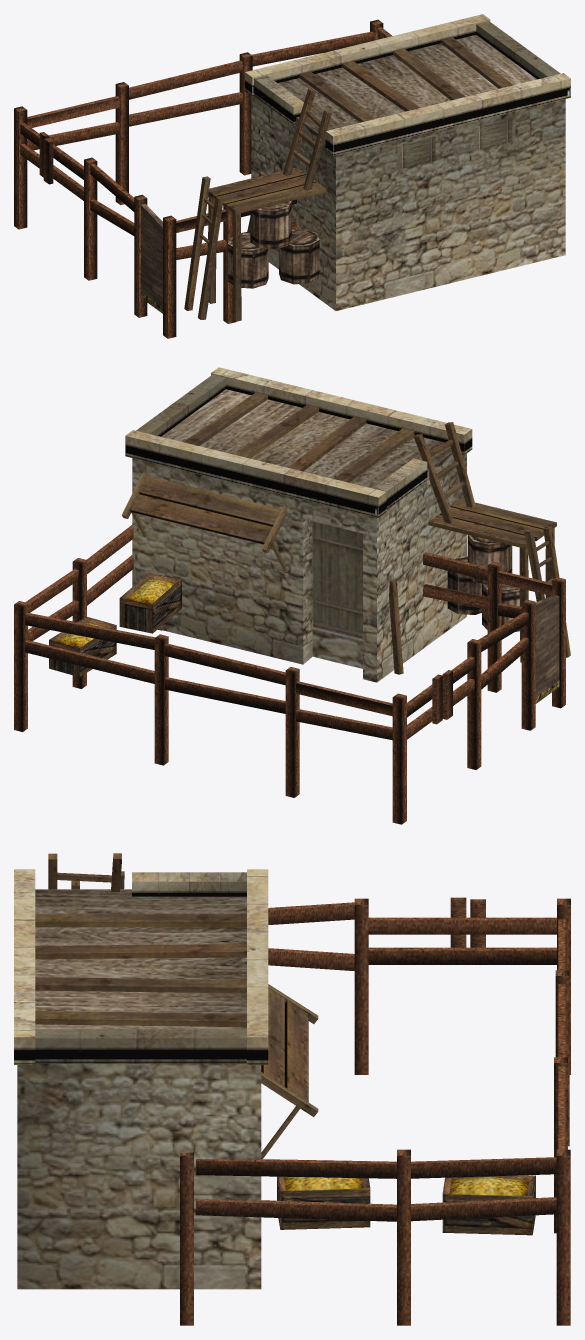
The model's file is corral.glb.
The picture shows the model from 3 angles, top to bottom: view 1: azimuth 30°, elevation 25°; view 2: azimuth 150°, elevation 25°; view 3: azimuth 270°, elevation 25°; orthographic projection. The views are drawn at different scales.
Parts seen in each view (by area): view 1: corral_part0, corral_part1; view 2: corral_part0, corral_part1; view 3: corral_part0, corral_part1.
Boxes of the visible parts, bbox=[...] form: corral_part0: bbox=[228, 14, 570, 310]; corral_part1: bbox=[14, 19, 512, 338]; corral_part0: bbox=[125, 367, 519, 682]; corral_part1: bbox=[14, 392, 570, 824]; corral_part0: bbox=[14, 869, 268, 1289]; corral_part1: bbox=[35, 853, 570, 1325].
Size of the model in its own units: 3.6 by 2.01 by 3.24.
Materials: 2 (2 with a texture image).
